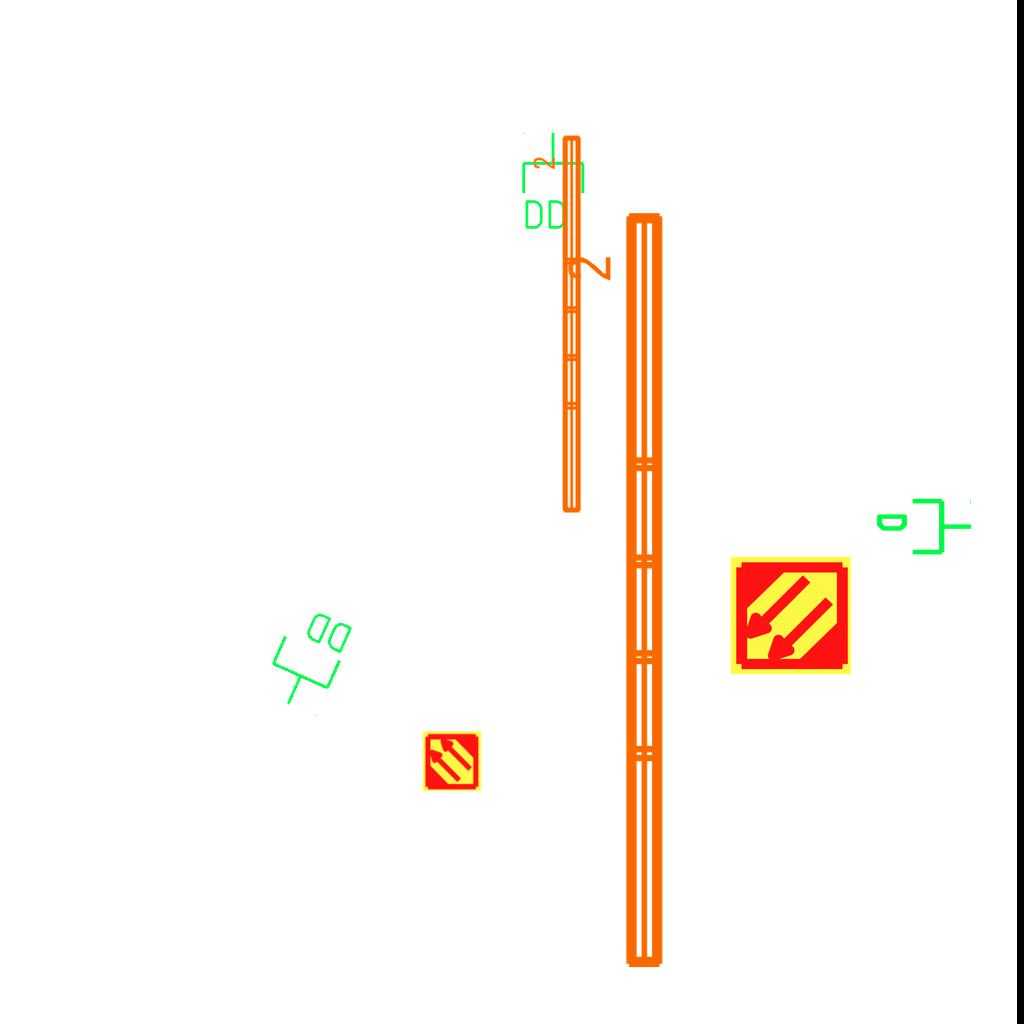ASR_Ansaugrauchmelder: (728, 553, 853, 678), (421, 730, 483, 792)
Ambulanz_Pendelleuchte_LED: (563, 204, 675, 978), (531, 131, 587, 518)
Datenanschluss_einfach: (874, 494, 974, 563)
Datenanschluss_zweifach: (256, 598, 361, 721), (518, 130, 587, 233)
